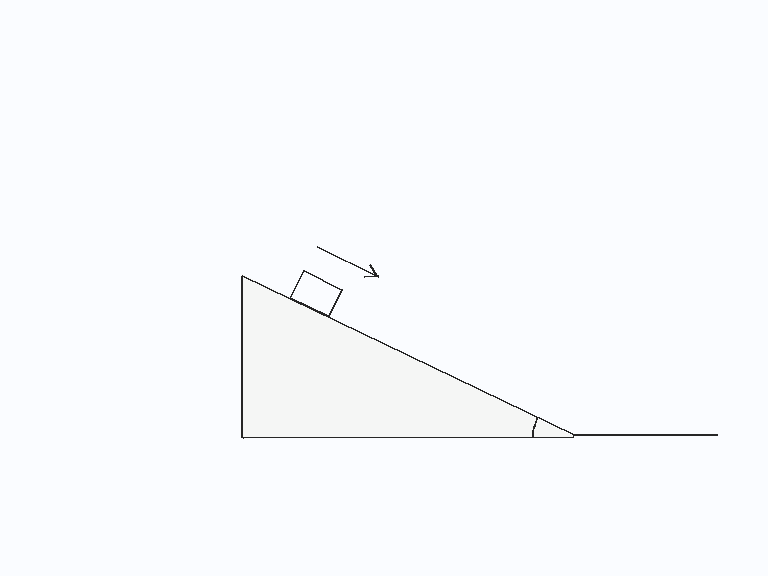block: (288, 269, 343, 318)
ramp: (240, 273, 575, 438)
